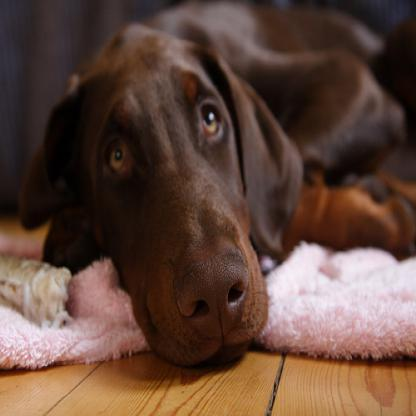dog: (19, 0, 415, 371)
